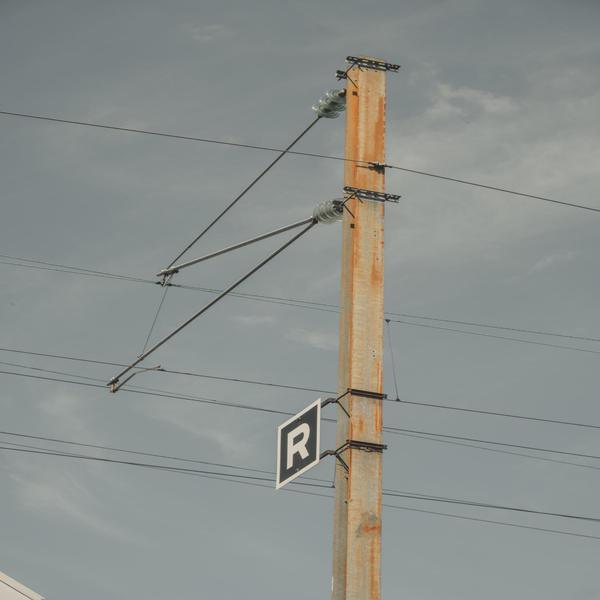utility_pole: (273, 37, 413, 297)
